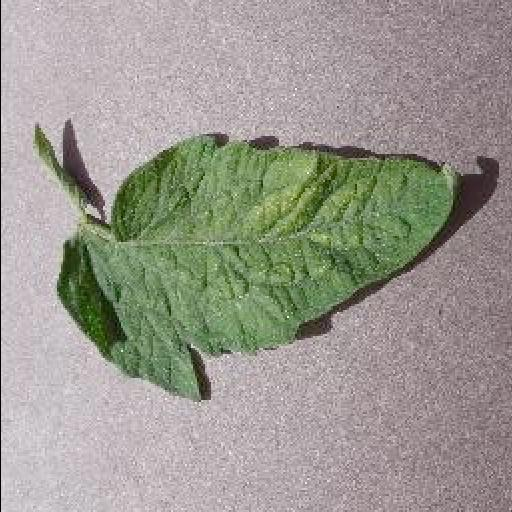disease_tomato: (56, 130, 458, 402)
